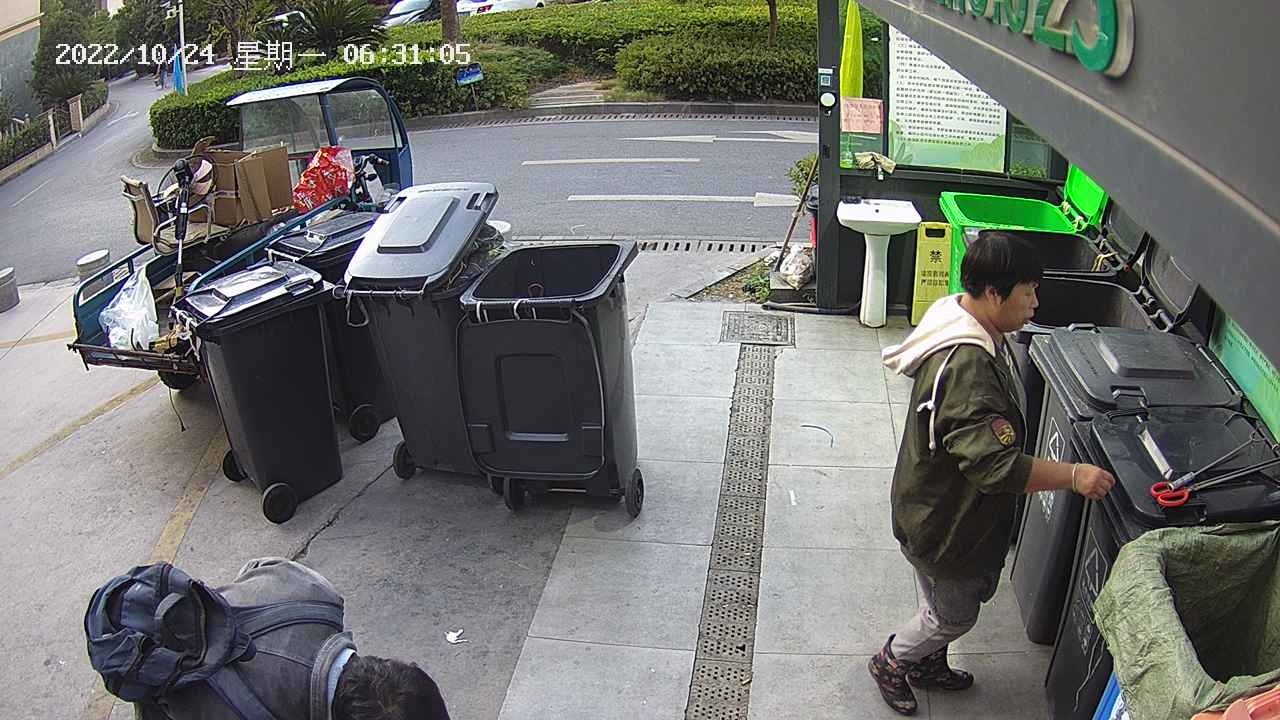person: (862, 217, 1121, 720), (75, 545, 475, 720)
